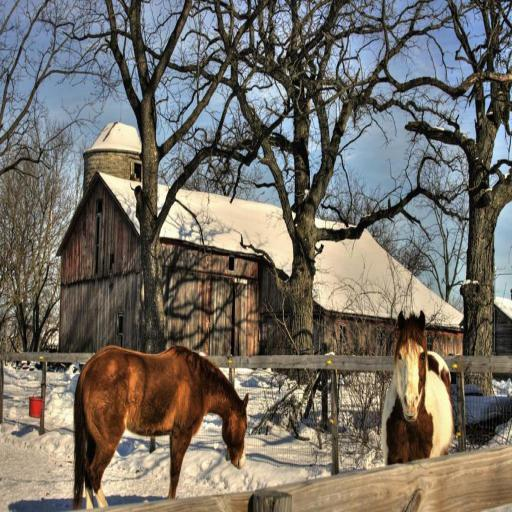horse: (70, 341, 250, 511), (379, 308, 455, 468)
